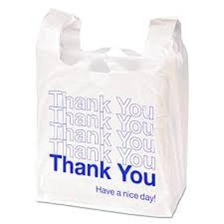plastic_bag: (20, 3, 202, 222)
